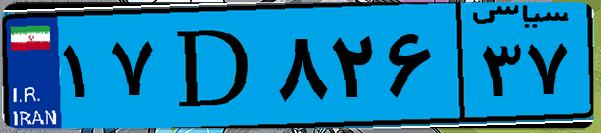1: (57, 26, 110, 100)
2: (330, 28, 385, 110)
3: (475, 38, 525, 113)
6: (385, 28, 445, 110)
7: (525, 38, 570, 115), (110, 28, 158, 98)
8: (270, 28, 330, 110)
D: (158, 12, 270, 120)
